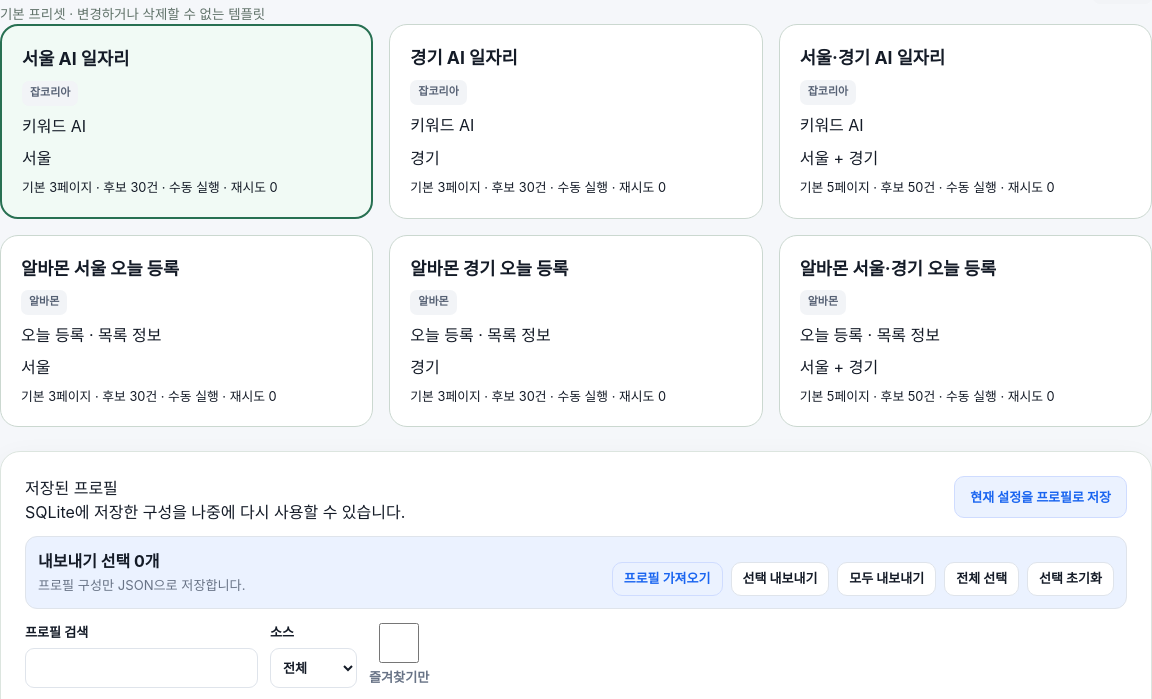
Scenario: CollectionControl › shows source-aware Albamon preset cards with listing-only operation
The width and height of the screenshot is (1152, 699).
What coordinates should you click on to do the following:
click the radio button labelled "알바몬 서울·경기 오늘 등록"
I would click on:
 (898, 268)
Its box is [779,235,1151,427].
(page scrolled)
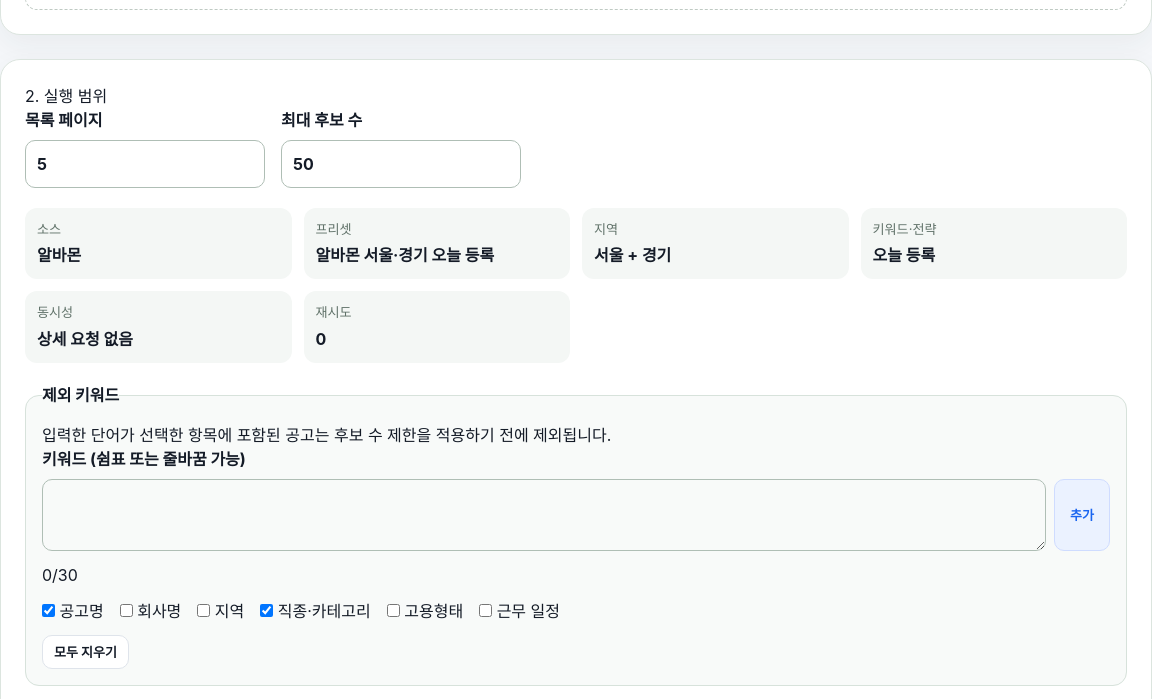
Result: the text "상세 요청 없음" is shown at [37,329,133,349]
